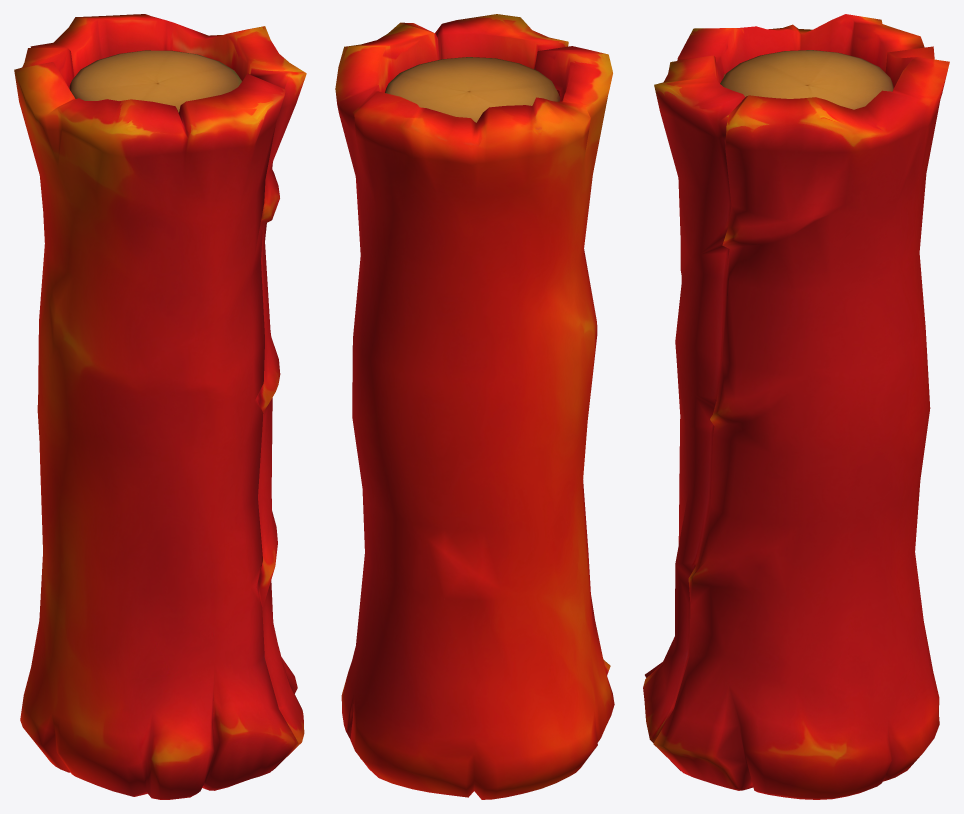
The model's file is explosive-stick.glb.
The picture shows the model from 3 angles, left to right: view 1: azimuth 30°, elevation 25°; view 2: azimuth 150°, elevation 25°; view 3: azimuth 270°, elevation 25°; orthographic projection.
Visible parts, largest first — view 1: tripo_node_c490ba14-a3c6-46d5-bf1a-1a0f9f4e9016; view 2: tripo_node_c490ba14-a3c6-46d5-bf1a-1a0f9f4e9016; view 3: tripo_node_c490ba14-a3c6-46d5-bf1a-1a0f9f4e9016.
Boxes of the visible parts, x1=… form: tripo_node_c490ba14-a3c6-46d5-bf1a-1a0f9f4e9016: x1=14, y1=14, x2=306, y2=799; tripo_node_c490ba14-a3c6-46d5-bf1a-1a0f9f4e9016: x1=335, y1=14, x2=614, y2=799; tripo_node_c490ba14-a3c6-46d5-bf1a-1a0f9f4e9016: x1=643, y1=14, x2=949, y2=799.
Size of the model in its own units: 0.3618 by 0.9995 by 0.395.
Materials: 1 (1 with a texture image).
